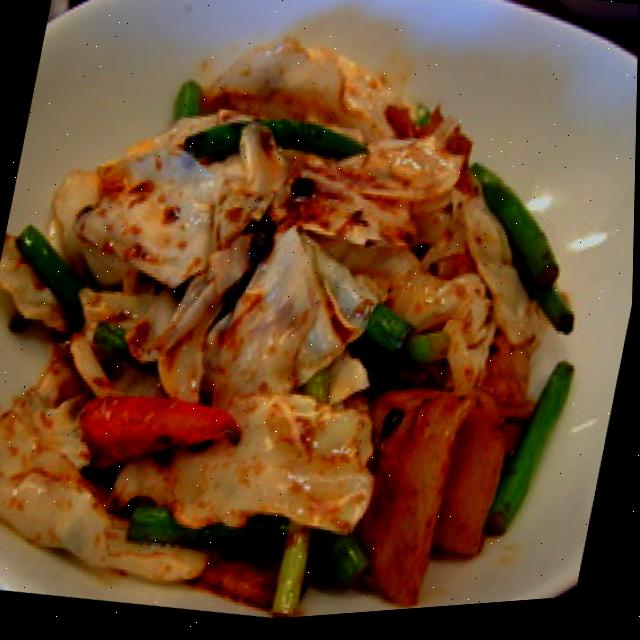蔬菜料理: (0, 28, 586, 640)
